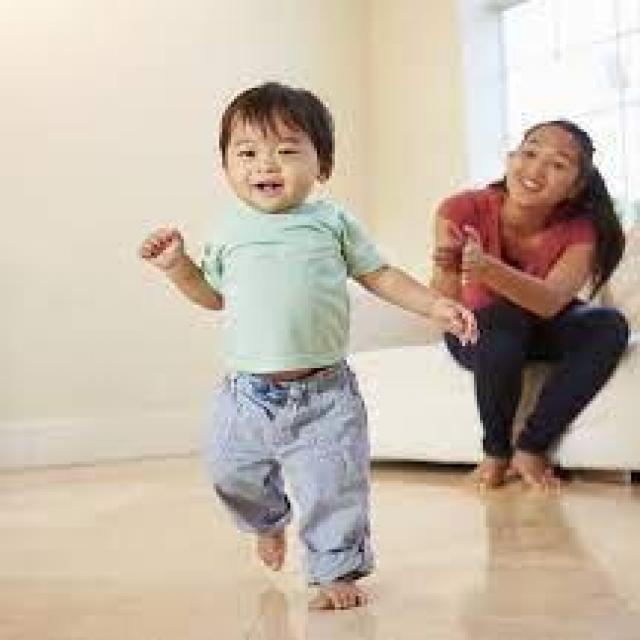person: (118, 71, 492, 621), (391, 99, 637, 514)
